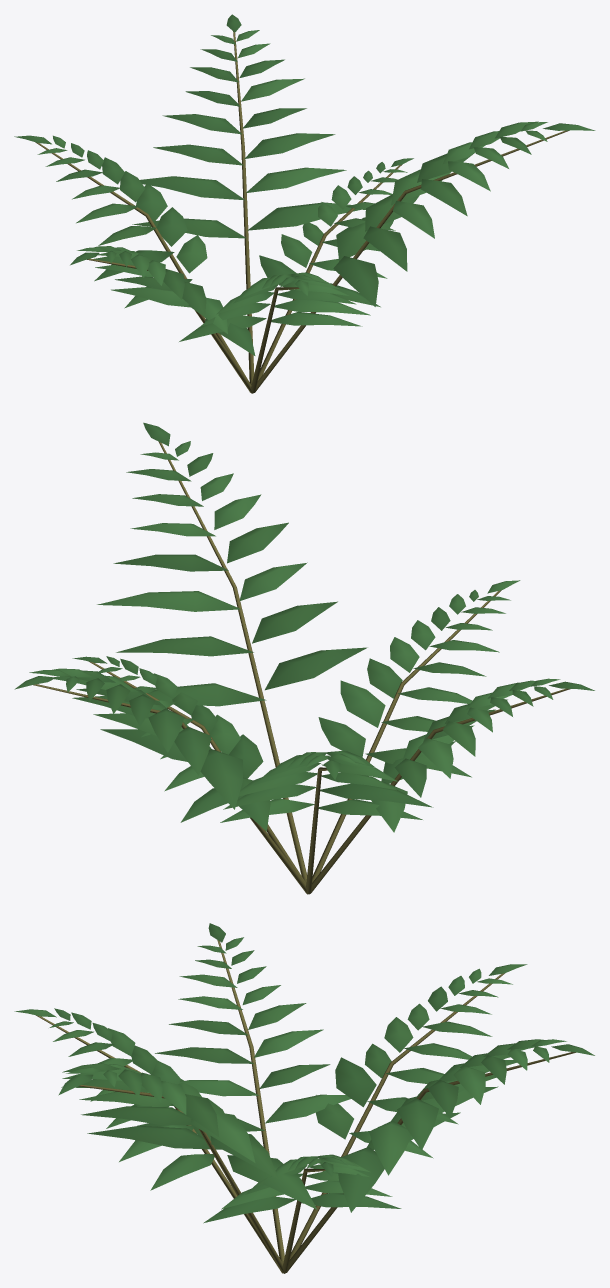
The model's file is sword_fern.glb.
3 views of the same model, one above another, from view 1: azimuth 30°, elevation 25°; view 2: azimuth 150°, elevation 25°; view 3: azimuth 270°, elevation 25° (orthographic). The views are drawn at different scales.
Parts seen in each view (by area): view 1: sword_fern; view 2: sword_fern; view 3: sword_fern.
Boxes of the visible parts, left/top/right/bottom form: sword_fern: left=14, top=14, right=595, bottom=393; sword_fern: left=14, top=422, right=594, bottom=894; sword_fern: left=14, top=923, right=594, bottom=1273.
Size of the model in its own units: 0.9502 by 0.5553 by 0.9221.
